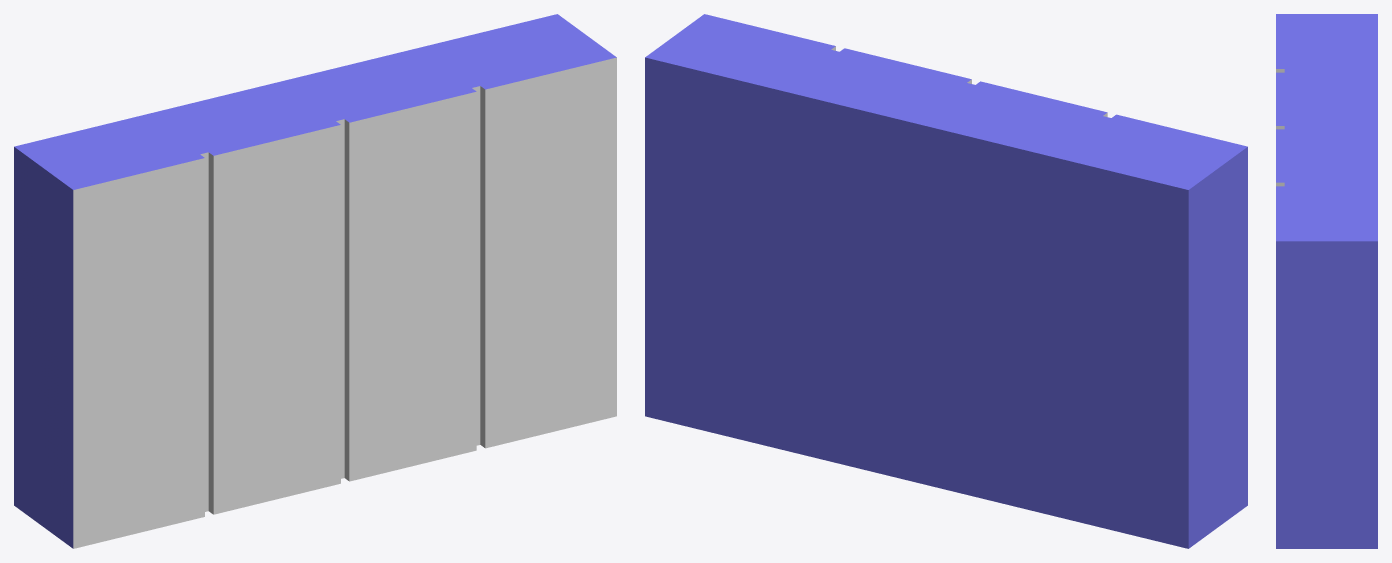
Rendered from ai.armoire.2.glb.
3 renders of one model, left to right at view 1: azimuth 30°, elevation 25°; view 2: azimuth 150°, elevation 25°; view 3: azimuth 270°, elevation 25°, orthographic. The views are drawn at different scales.
Parts seen in each view (by area): view 1: imagetostl_mesh8, imagetostl_mesh5, imagetostl_mesh6, imagetostl_mesh7, imagetostl_mesh3, imagetostl_mesh2, imagetostl_mesh10, imagetostl_mesh13, imagetostl_mesh16, imagetostl_mesh15, imagetostl_mesh9, imagetostl_mesh12; view 2: imagetostl_mesh1, imagetostl_mesh3, imagetostl_mesh2; view 3: imagetostl_mesh4, imagetostl_mesh3.
Part boxes in pixels (left/top/right/bottom): imagetostl_mesh8: left=485, top=57, right=616, bottom=448; imagetostl_mesh5: left=73, top=158, right=204, bottom=548; imagetostl_mesh6: left=213, top=125, right=340, bottom=514; imagetostl_mesh7: left=349, top=92, right=476, bottom=481; imagetostl_mesh3: left=14, top=14, right=616, bottom=189; imagetostl_mesh2: left=14, top=147, right=73, bottom=548; imagetostl_mesh10: left=208, top=152, right=213, bottom=514; imagetostl_mesh13: left=344, top=119, right=349, bottom=480; imagetostl_mesh16: left=480, top=86, right=485, bottom=447; imagetostl_mesh15: left=472, top=86, right=480, bottom=445; imagetostl_mesh9: left=200, top=152, right=208, bottom=511; imagetostl_mesh12: left=336, top=119, right=344, bottom=478; imagetostl_mesh1: left=645, top=57, right=1188, bottom=548; imagetostl_mesh3: left=645, top=14, right=1247, bottom=189; imagetostl_mesh2: left=1188, top=147, right=1247, bottom=548; imagetostl_mesh4: left=1276, top=241, right=1377, bottom=548; imagetostl_mesh3: left=1276, top=14, right=1377, bottom=241.
Size of the model in its own units: 2.5 by 1.57 by 0.4724.
